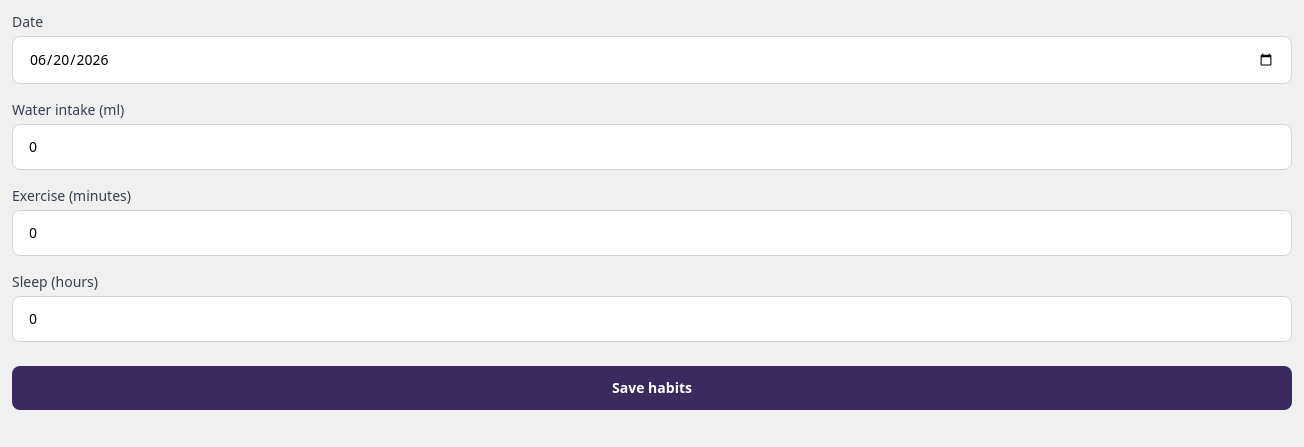
Test: HabitForm › shows validation error when sleep hours exceed 24
Replace the text in the number field labelled "Sleep (hours)" with "25" at (652, 319), box [12, 296, 1292, 342]
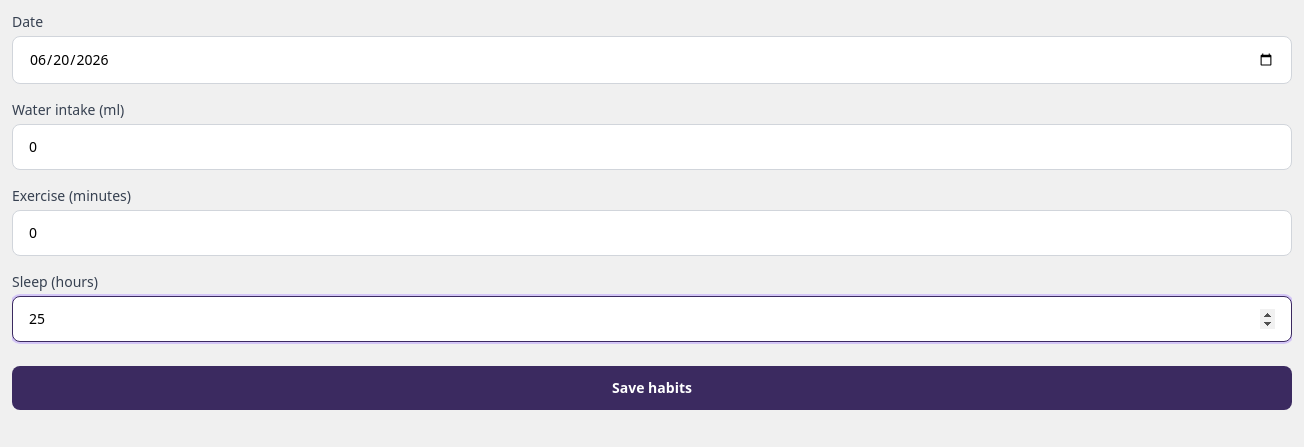
Click the button "Save habits" at (652, 388), box [12, 366, 1292, 410]
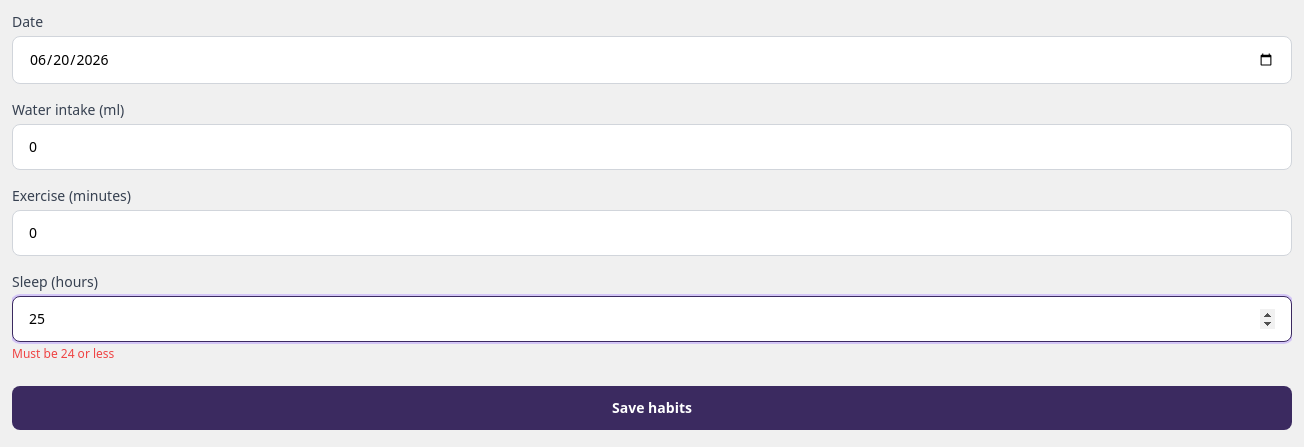
Expected: the text "Must be 24 or less" is shown, [12, 345, 114, 362]
